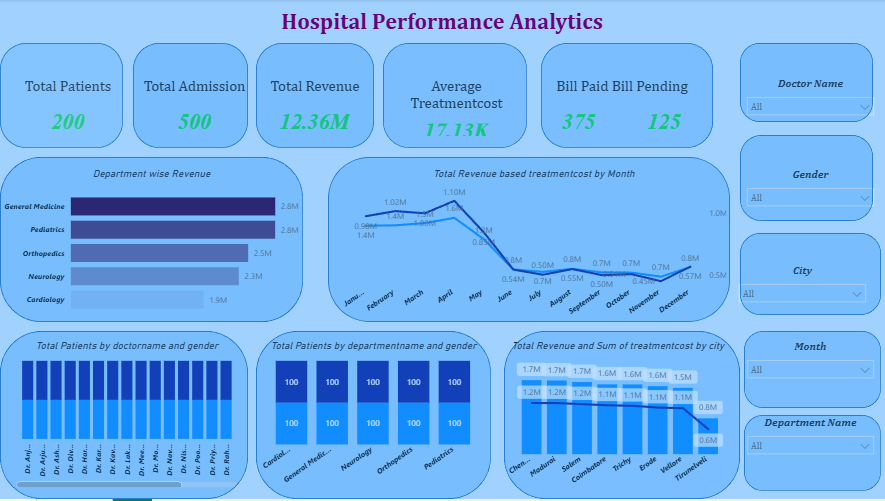

The page's visual inventory and layout, read from the dashboard file:
{"tool":"powerbi","page":{"name":"Page 1","canvas":[1280,720],"ordinal":0},"visuals":[{"type":"cardVisual","title":"Total Patients","fields":{"Data":["departments.Total Patients"]},"box":[18.7,112.3,158.4,102.2],"z":0},{"type":"cardVisual","title":"Bill Paid             Bill Pending","fields":{"Data":["departments.Bills Paid","departments.Bills Pending"]},"box":[758.9,112.3,273.6,102.2],"z":1000},{"type":"cardVisual","title":"Total Admission","fields":{"Data":["departments.Total Admissions"]},"box":[191.5,112.3,177.1,102.2],"z":2000},{"type":"cardVisual","title":"Total Revenue","fields":{"Data":["departments.Total Revenue"]},"box":[368.6,112.3,169.9,102.2],"z":3000},{"type":"cardVisual","title":"Average Treatmentcost","fields":{"Data":["departments.Average Treatment Cost"]},"box":[571.7,112.3,171.4,102.2],"z":4000},{"type":"slicer","title":"Doctor Name","fields":{"Values":["doctors.doctorname"]},"box":[1065.6,112.3,203,102.2],"z":5000},{"type":"slicer","title":"Department Name","fields":{"Values":["departments.departmentname"]},"box":[1065.6,600.5,203,108],"z":6000},{"type":"slicer","title":"City","fields":{"Values":["admissions.diagnosis"]},"box":[1054.1,381.6,203,96.5],"z":7000},{"type":"slicer","title":"Gender","fields":{"Values":["patients.gender"]},"box":[1065.6,243.4,203,110.9],"z":8000},{"type":"slicer","title":"Month","fields":{"Values":["admissions.admitdate.Variation.Date Hierarchy.Month"]},"box":[1065.6,491,203,109.4],"z":9000},{"type":"barChart","title":"Department wise Revenue","fields":{"Category":["departments.departmentname"],"Y":["departments.Total Revenue"]},"box":[0,243.4,436.3,221.8],"z":10000},{"type":"lineChart","title":"Total Revenue based  treatmentcost by Month","fields":{"Category":["admissions.admitdate.Variation.Date Hierarchy.Month"],"Y":["departments.Total Revenue"],"Y2":["Sum(billing.treatmentcost)"]},"box":[486.7,243.4,564.5,221.8],"z":11000},{"type":"columnChart","fields":{"Category":["doctors.doctorname"],"Y":["departments.Total Patients"],"Series":["patients.gender"]},"box":[18.7,491,328.3,217.4],"z":12000},{"type":"columnChart","fields":{"Category":["departments.departmentname"],"Y":["departments.Total Patients"],"Series":["patients.gender"]},"box":[368.6,491,338.4,217.4],"z":13000},{"type":"lineStackedColumnComboChart","fields":{"Category":["patients.city"],"Y":["departments.Total Revenue"],"Y2":["Sum(billing.treatmentcost)"]},"box":[725.8,491,328.3,217.4],"z":14000},{"type":"textbox","box":[0,0,1280.2,77.8],"z":15000},{"type":"shape","box":[0,63.4,177.1,151.2],"z":16000},{"type":"shape","box":[191.5,63.4,165.6,151.2],"z":17000},{"type":"shape","box":[0,227.5,436.3,237.6],"z":18000},{"type":"shape","box":[472.3,227.5,578.9,237.6],"z":19000},{"type":"shape","box":[0,478.1,357.1,241.9],"z":20000},{"type":"shape","box":[368.6,478.1,338.4,241.9],"z":21000},{"type":"shape","box":[725.8,478.1,339.8,241.9],"z":22000},{"type":"shape","box":[368.6,63.4,169.9,151.2],"z":22001},{"type":"shape","box":[551.5,63.4,207.4,151.2],"z":22002},{"type":"shape","box":[779,63.4,247.7,151.2],"z":22003},{"type":"shape","box":[1065.6,63.4,191.5,113.8],"z":22004},{"type":"shape","box":[1065.6,195.8,191.5,123.8],"z":22005},{"type":"shape","box":[1065.6,337,203,118.1],"z":22006},{"type":"shape","box":[1071.4,478.1,197.3,110.9],"z":22007},{"type":"shape","box":[1071.4,599,197.3,109.4],"z":22008}]}

Visuals, with their boxes in screenshot pixels (x1, y1, x2, y2), scaled from the page's 1280x720 canvas onto the 885x501 screenshot:
"Total Patients" cardVisual: 13,78,122,149
"Bill Paid             Bill Pending" cardVisual: 525,78,714,149
"Total Admission" cardVisual: 132,78,255,149
"Total Revenue" cardVisual: 255,78,372,149
"Average Treatmentcost" cardVisual: 395,78,514,149
"Doctor Name" slicer: 737,78,877,149
"Department Name" slicer: 737,418,877,493
"City" slicer: 729,266,869,333
"Gender" slicer: 737,169,877,247
"Month" slicer: 737,342,877,418
"Department wise Revenue" barChart: 0,169,302,324
"Total Revenue based  treatmentcost by Month" lineChart: 337,169,727,324
columnChart - doctors.doctorname x departments.Total Patients: 13,342,240,493
columnChart - departments.departmentname x departments.Total Patients: 255,342,489,493
lineStackedColumnComboChart - patients.city x departments.Total Revenue: 502,342,729,493
textbox: 0,0,884,54
shape: 0,44,122,149
shape: 132,44,247,149
shape: 0,158,302,324
shape: 327,158,727,324
shape: 0,333,247,500
shape: 255,333,489,500
shape: 502,333,737,500
shape: 255,44,372,149
shape: 381,44,525,149
shape: 539,44,710,149
shape: 737,44,869,123
shape: 737,136,869,222
shape: 737,234,877,317
shape: 741,333,877,410
shape: 741,417,877,493
